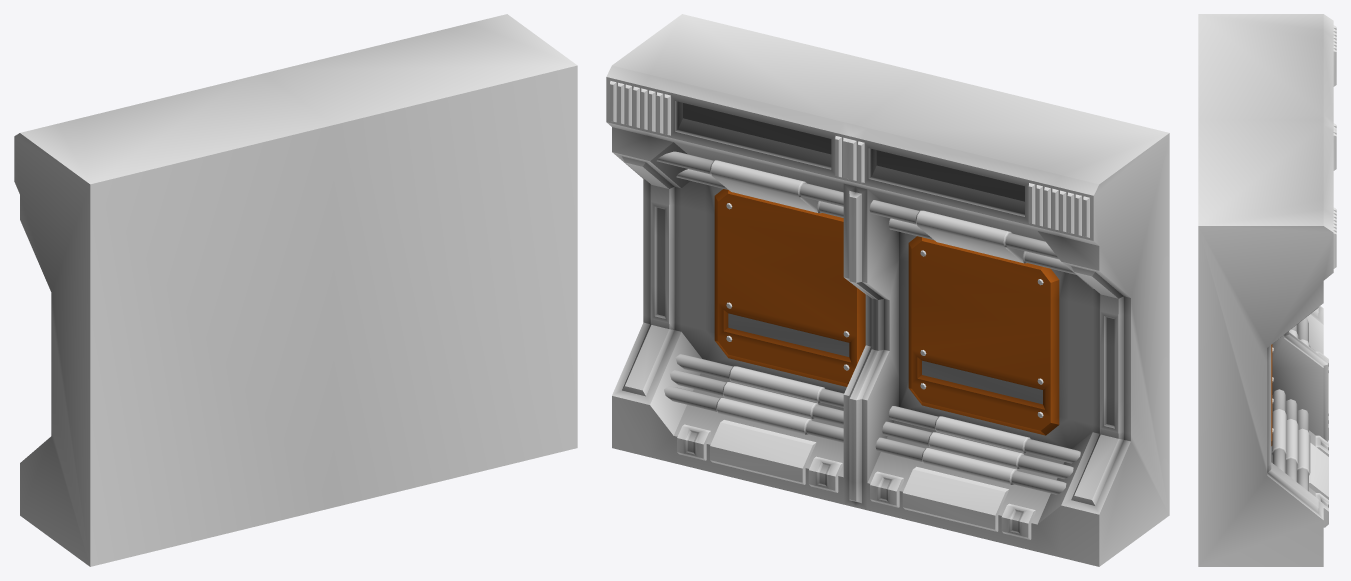
The model's file is wallDouble_A.FBX.
The picture shows the model from 3 angles, left to right: view 1: azimuth 30°, elevation 25°; view 2: azimuth 150°, elevation 25°; view 3: azimuth 270°, elevation 25°; orthographic projection. The views are drawn at different scales.
Visible parts, largest first — view 1: wallDouble_A; view 2: wallDouble_A; view 3: wallDouble_A.
Boxes of the visible parts, x1,y1,x2,y2 form: wallDouble_A: (14,14,577,566); wallDouble_A: (606,14,1169,566); wallDouble_A: (1198,14,1336,566).
Size of the model in its own units: 4 by 3 by 1.1.
